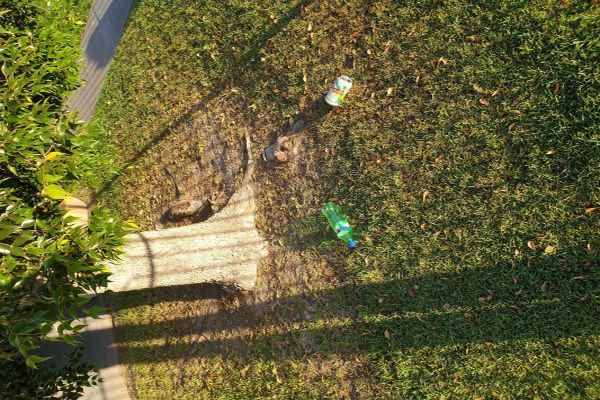Plastic Bottle: (318, 200, 358, 250), (323, 75, 353, 108)
